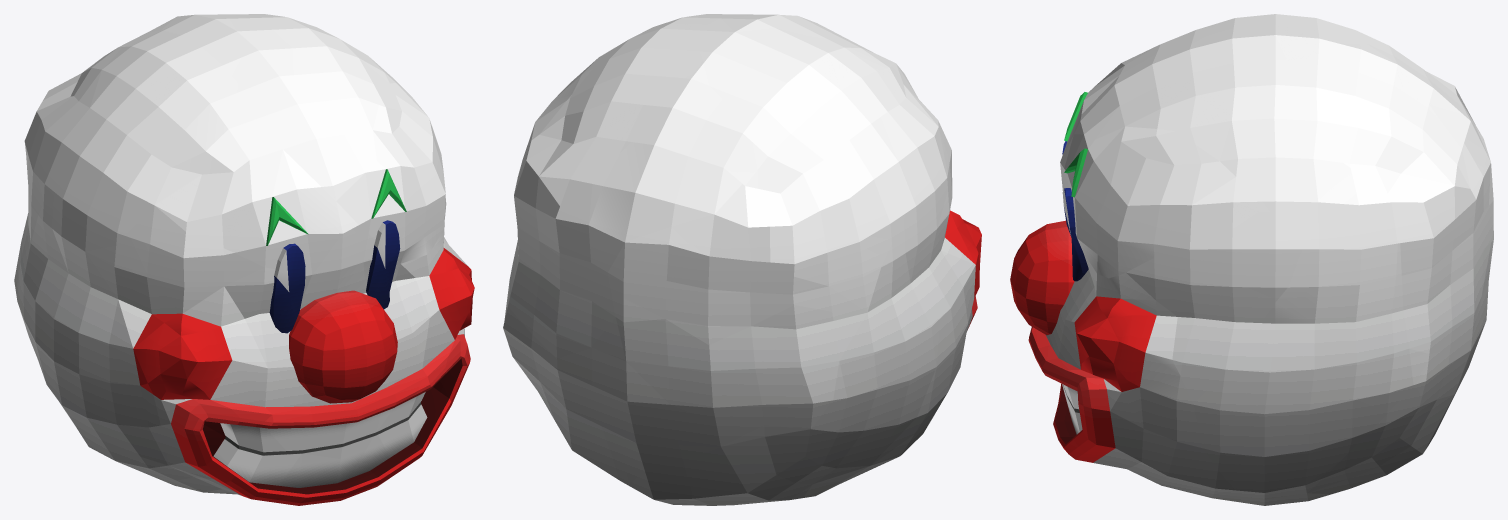
File: Clownhead_Shattered.fbx
3 renders of one model, left to right at view 1: azimuth 30°, elevation 25°; view 2: azimuth 150°, elevation 25°; view 3: azimuth 270°, elevation 25°, orthographic. The views are drawn at different scales.
Visible parts, largest first — view 1: ClownHead_Shatter; view 2: ClownHead_Shatter; view 3: ClownHead_Shatter.
Boxes of the visible parts, x1,y1,x2,y2 form: ClownHead_Shatter: [14, 14, 474, 505]; ClownHead_Shatter: [503, 14, 981, 505]; ClownHead_Shatter: [1010, 14, 1493, 505].
Size of the model in its own units: 52.1 by 57.26 by 56.75.
